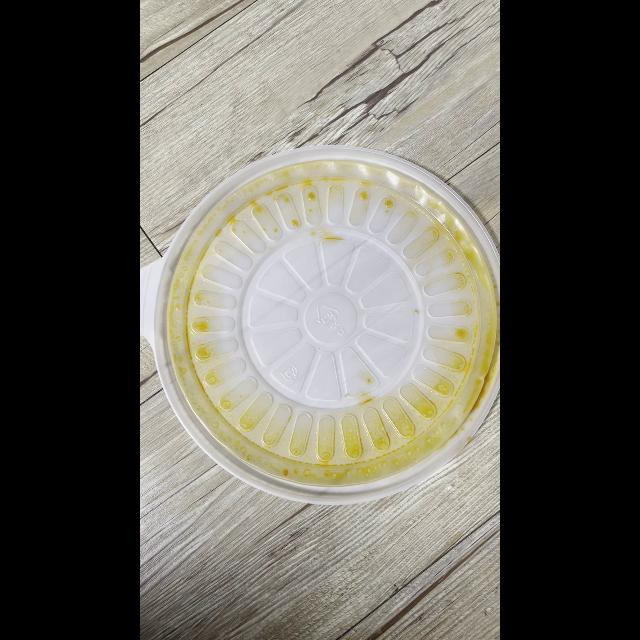dirty: (166, 150, 499, 502)
